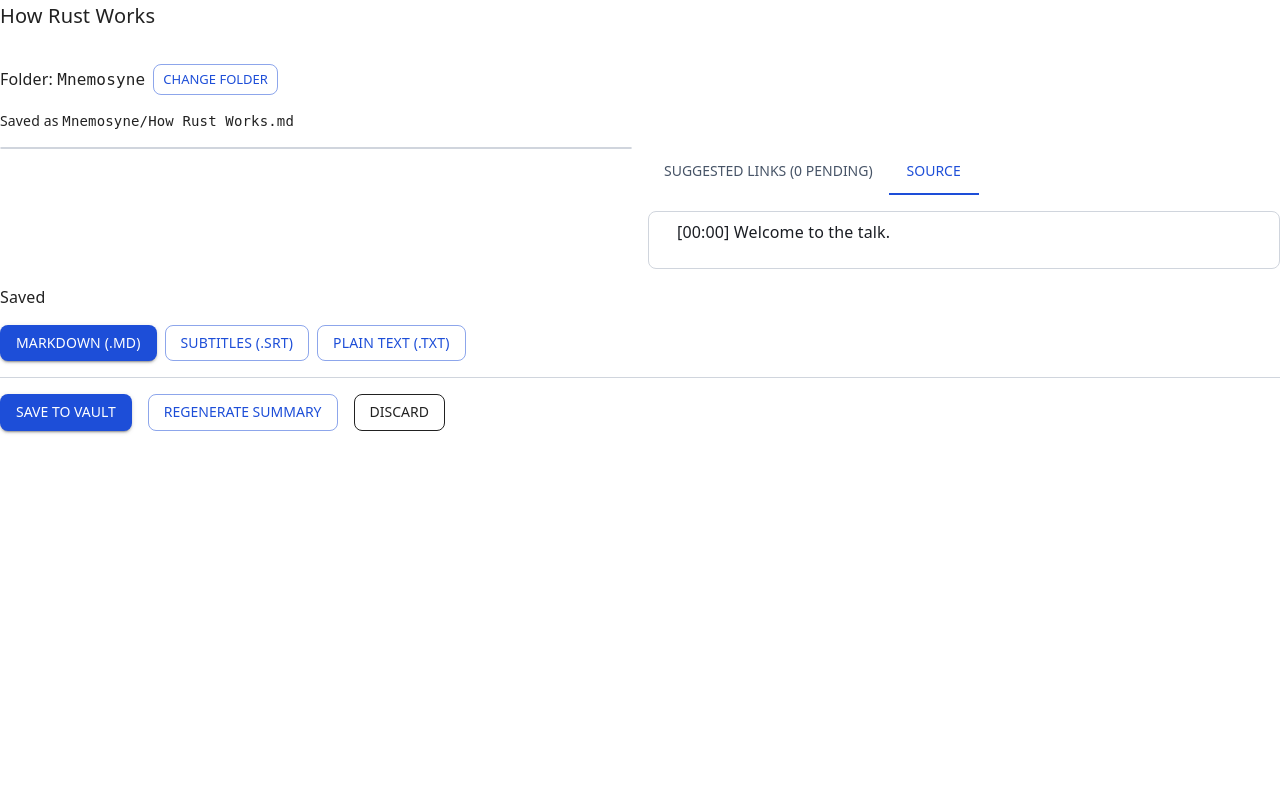
Scenario: ReviewScreen regenerate › is offered for a note in review and opens the dialog
Click the button "Regenerate summary" at [243, 413], box [148, 394, 338, 431]
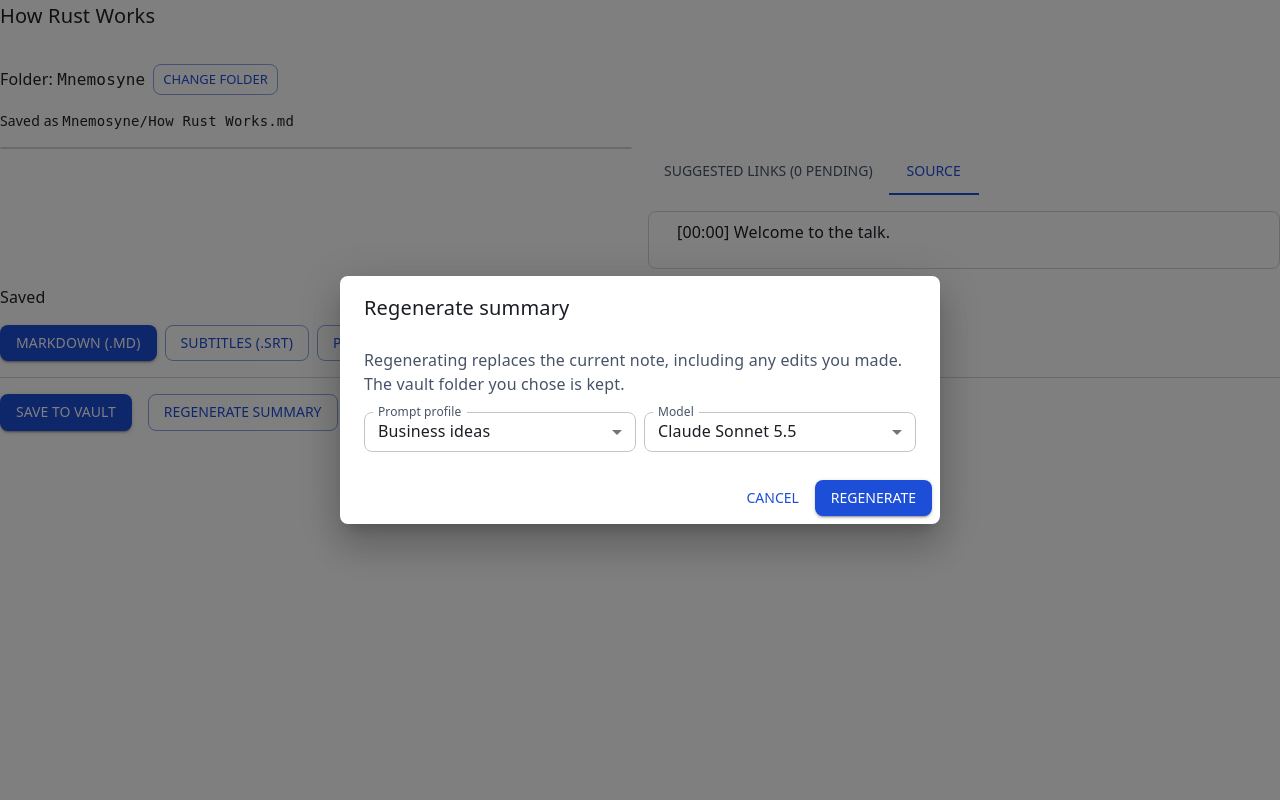
Expected: the dialog "Regenerate summary" is shown, [340, 276, 940, 524]
